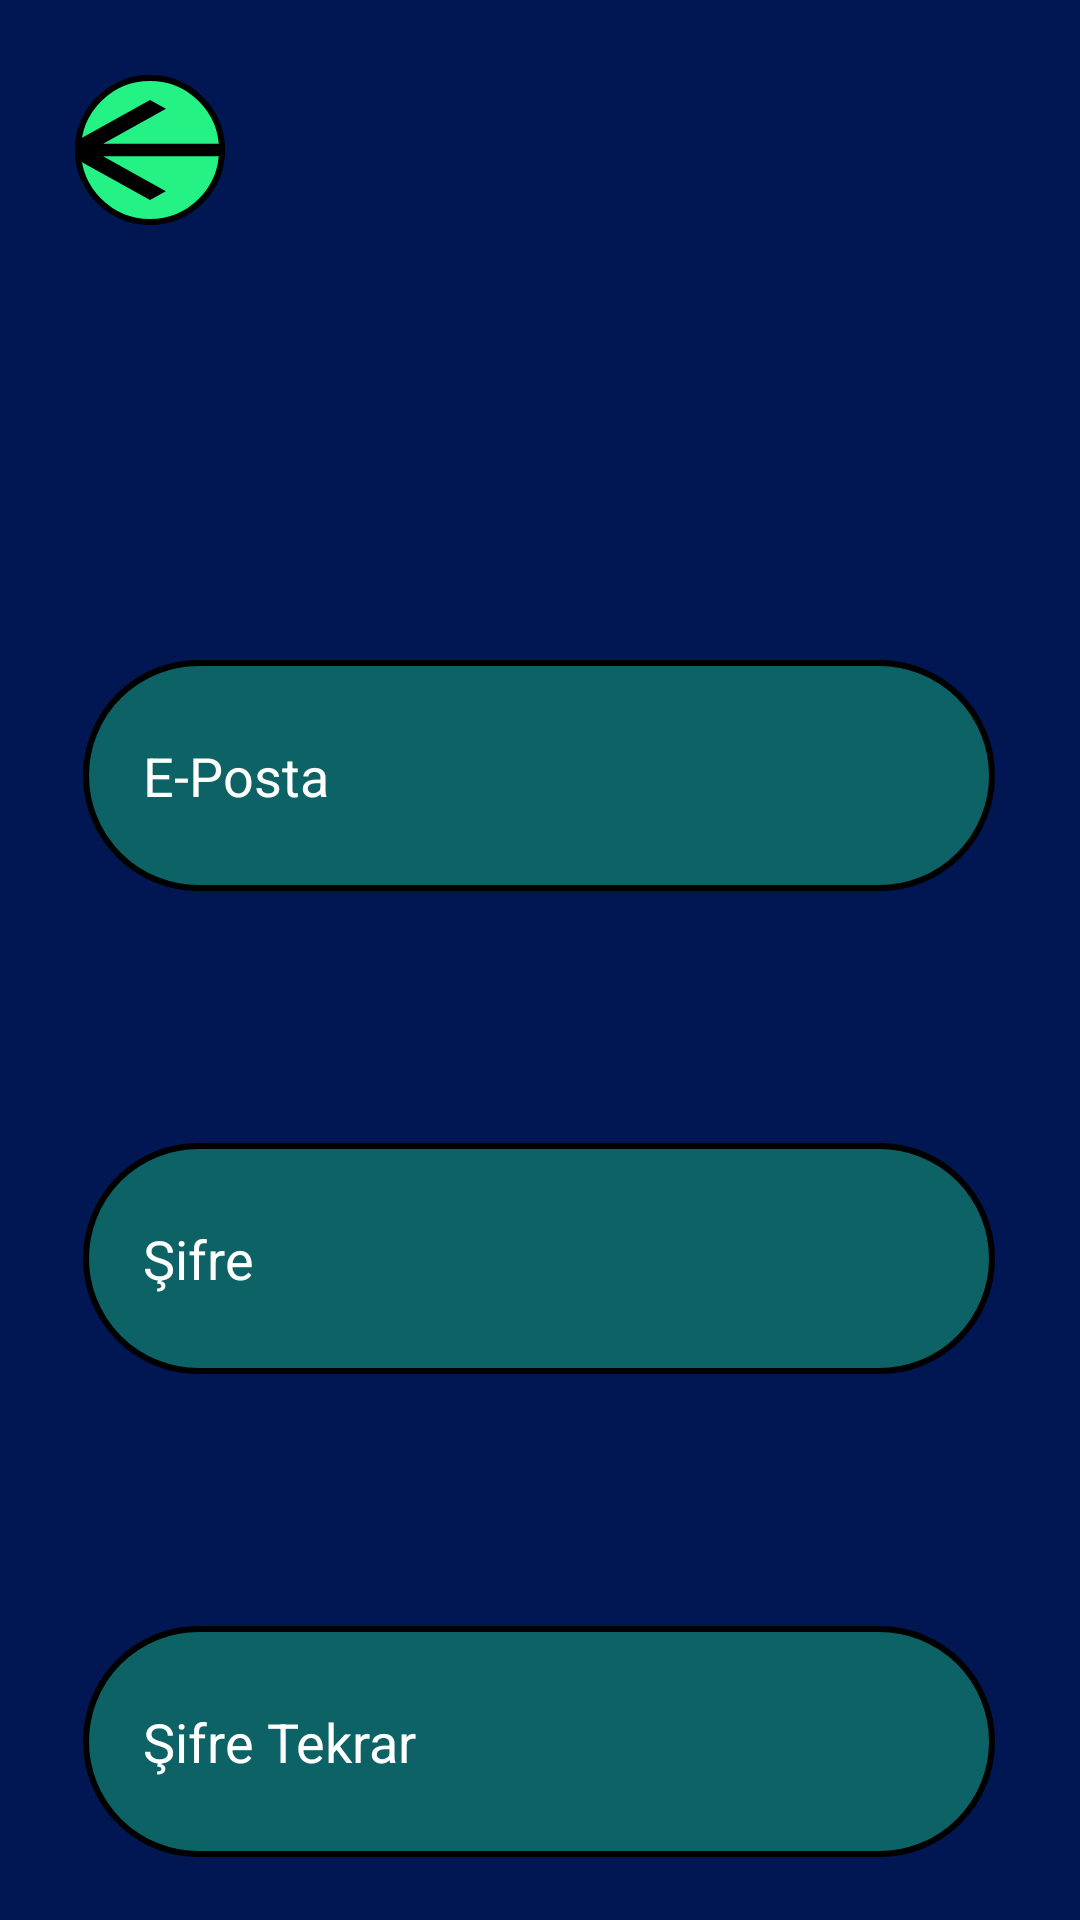

Icon bounding boxes for this 1080*1920 phone screenshot, format (x1=x1, y1=y1, x2=x2, y2=y2):
arrow back: (x1=75, y1=75, x2=225, y2=225)
